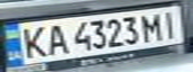2: (103, 15, 127, 47)
3: (87, 17, 109, 51), (121, 14, 142, 45)
4: (69, 18, 90, 52)
A: (42, 21, 69, 56)
I: (157, 8, 184, 39)
K: (15, 24, 51, 60)
M: (139, 10, 166, 42)
